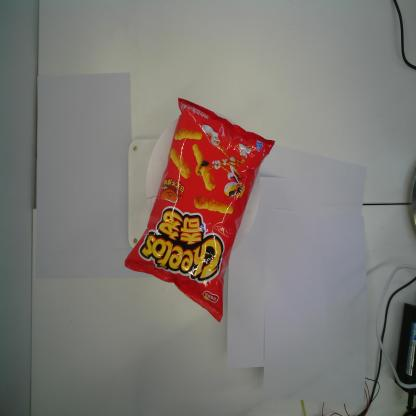Puffed Food: (119, 96, 274, 323)
